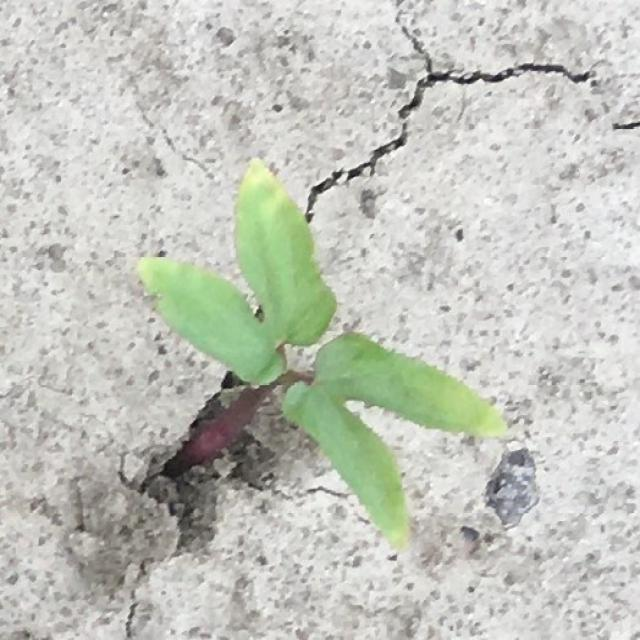MorningGlory: (133, 156, 508, 551)
